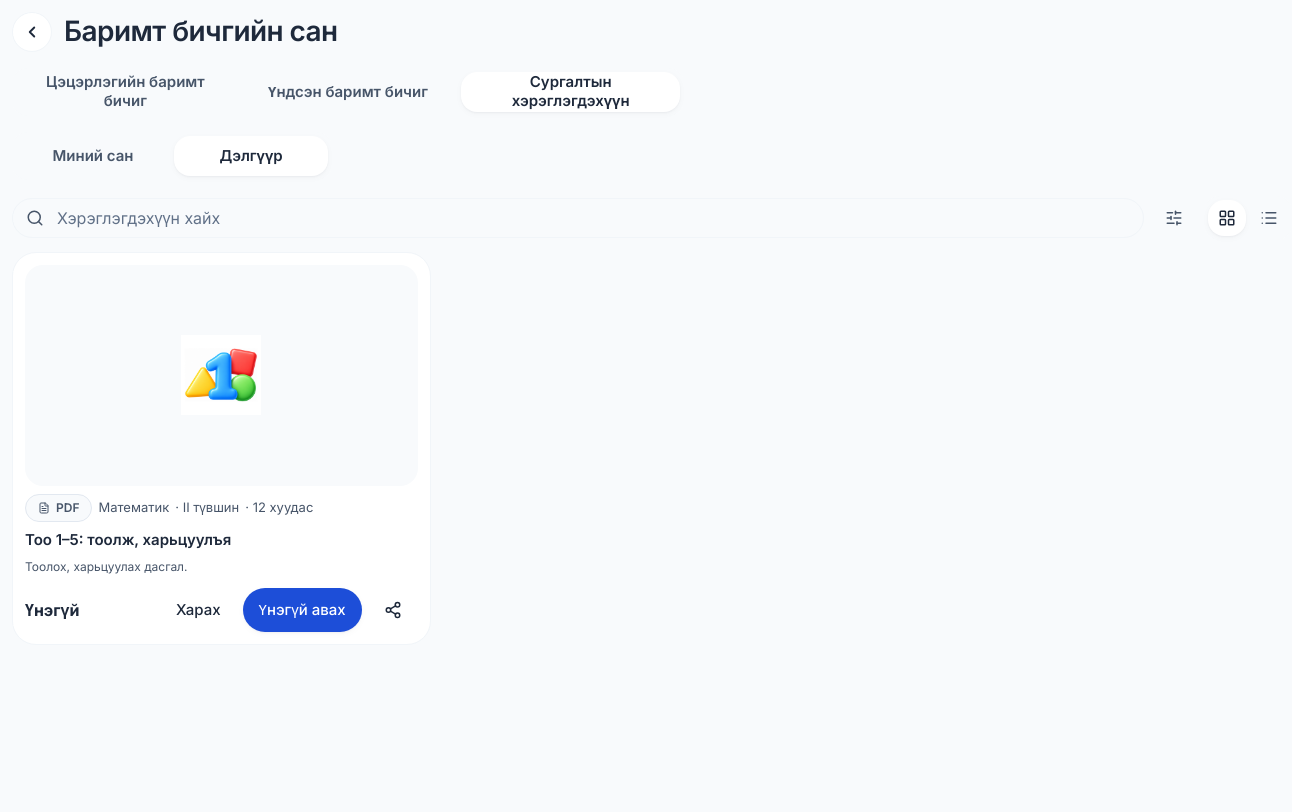
free materials and sharing › adds a free one to «Миний сан» in one press, no QR
Step 1. Click the button "Үнэгүй авах" → (302, 610), box [243,588,362,632]
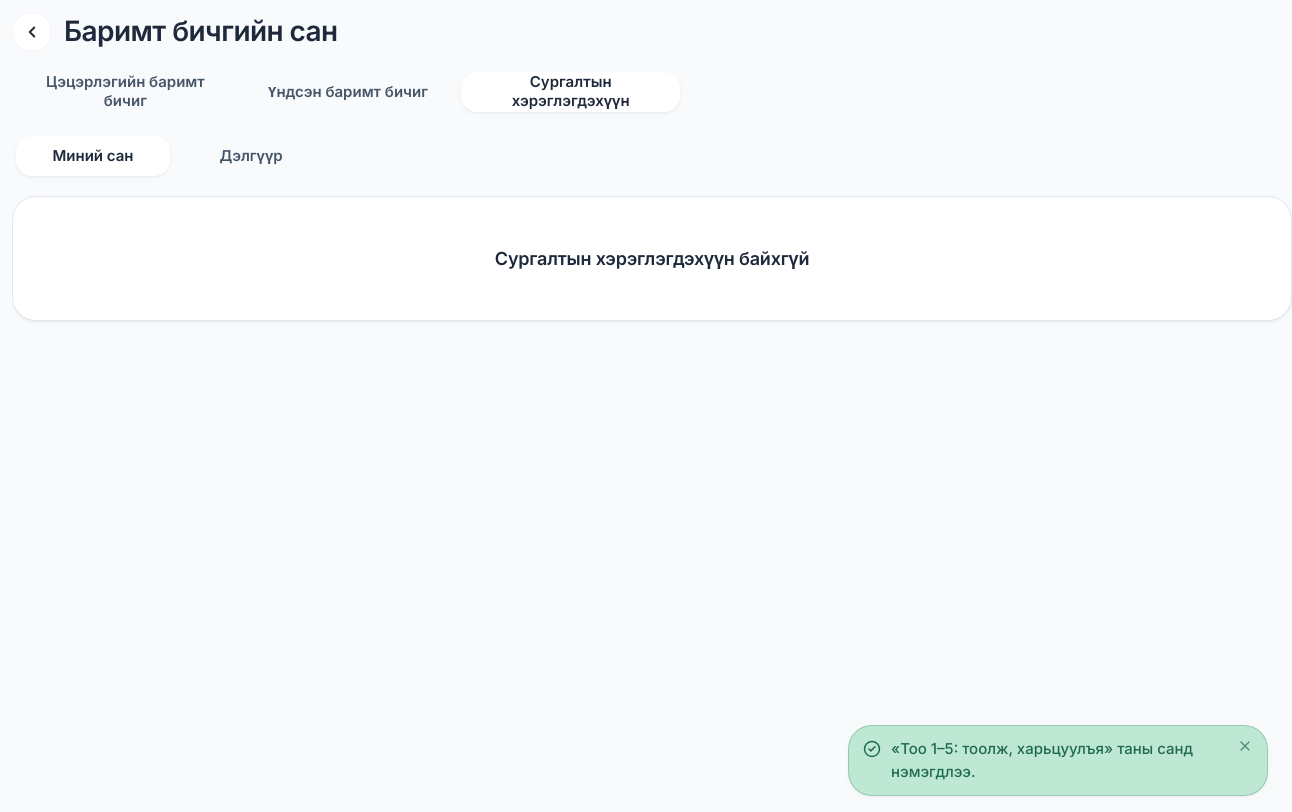
Expected: the text "«Тоо 1–5: тоолж, харьцуулъя» таны санд нэмэгдлээ." is shown, [891,738,1227,783]
